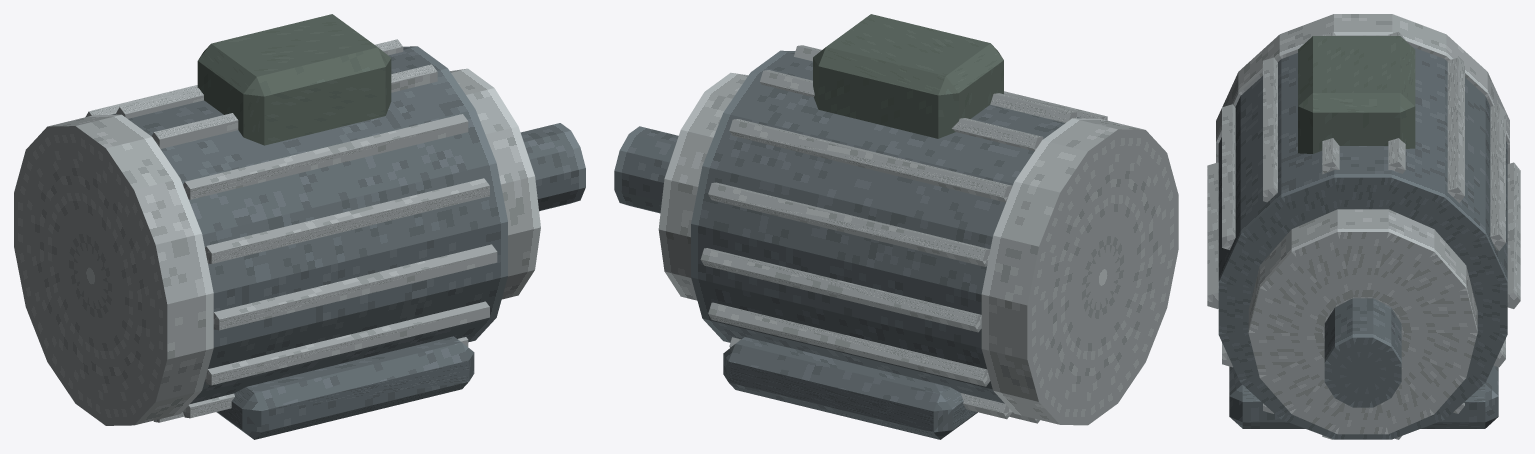
File: motor.glb
3 views of the same model, side by side, from view 1: azimuth 30°, elevation 25°; view 2: azimuth 150°, elevation 25°; view 3: azimuth 270°, elevation 25° (orthographic). The views are drawn at different scales.
Visible parts, largest first — view 1: block_long electric motor casing, block_rear fan cover, block_longitudinal cooling fin 0 (×8), block_terminal box, block_cast mounting feet, block_end bell, block_smooth drive shaft; view 2: block_long electric motor casing, block_rear fan cover, block_longitudinal cooling fin 0 (×7), block_terminal box, block_cast mounting feet, block_end bell, block_smooth drive shaft; view 3: block_long electric motor casing, block_end bell, block_longitudinal cooling fin 0 (×8), block_terminal box, block_smooth drive shaft, block_rear fan cover, block_cast mounting feet.
Boxes of the visible parts, bbox=[...] form: block_long electric motor casing: bbox=[112, 46, 507, 403]; block_rear fan cover: bbox=[14, 114, 213, 425]; block_longitudinal cooling fin 0 (×8): bbox=[85, 39, 497, 418]; block_terminal box: bbox=[197, 14, 391, 145]; block_cast mounting feet: bbox=[216, 336, 474, 439]; block_end bell: bbox=[450, 68, 540, 299]; block_smooth drive shaft: bbox=[520, 123, 585, 211]; block_long electric motor casing: bbox=[691, 50, 1081, 403]; block_rear fan cover: bbox=[981, 118, 1178, 425]; block_longitudinal cooling fin 0 (×7): bbox=[700, 45, 1076, 419]; block_terminal box: bbox=[813, 14, 1003, 138]; block_cast mounting feet: bbox=[723, 337, 977, 439]; block_end bell: bbox=[658, 72, 748, 300]; block_smooth drive shaft: bbox=[614, 126, 678, 213]; block_long electric motor casing: bbox=[1218, 47, 1507, 439]; block_end bell: bbox=[1248, 209, 1477, 434]; block_longitudinal cooling fin 0 (×8): bbox=[1207, 31, 1520, 308]; block_terminal box: bbox=[1298, 36, 1415, 153]; block_smooth drive shaft: bbox=[1324, 298, 1401, 407]; block_rear fan cover: bbox=[1216, 14, 1509, 163]; block_cast mounting feet: bbox=[1229, 365, 1498, 428].
Size of the model in its own units: 0.5935 by 0.3941 by 0.3532.
Materials: 1 (1 with a texture image).
